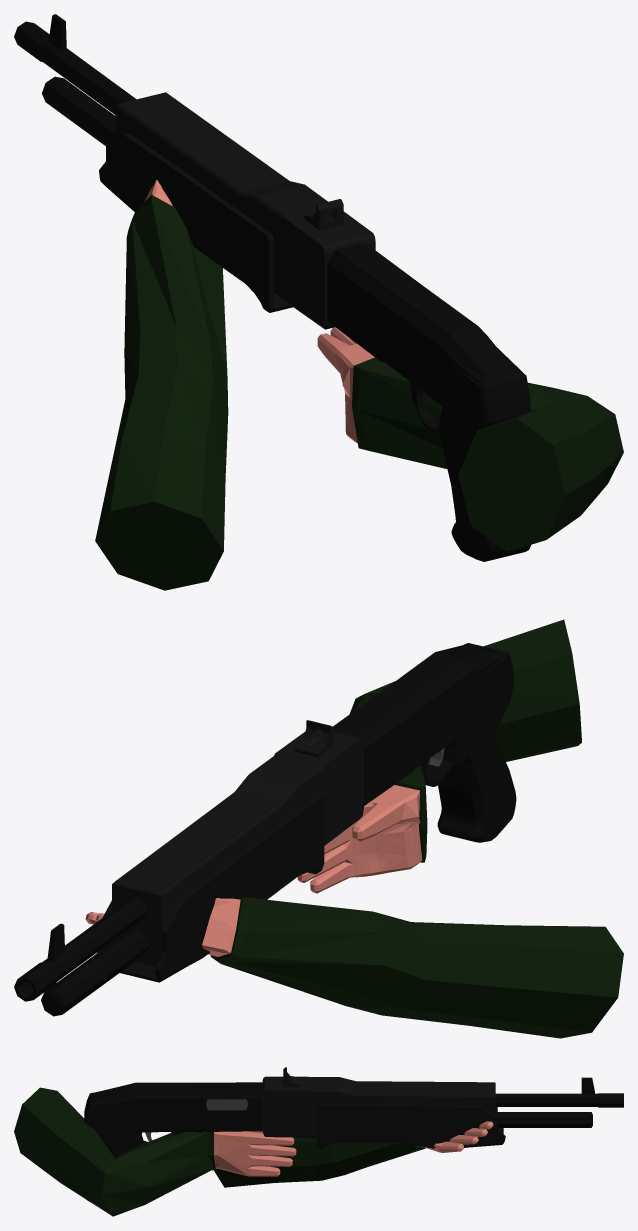
The picture shows the model from 3 angles, top to bottom: view 1: azimuth 30°, elevation 25°; view 2: azimuth 150°, elevation 25°; view 3: azimuth 270°, elevation 25°; orthographic projection. The views are drawn at different scales.
Visible parts, largest first — view 1: arms, gun; view 2: gun, arms; view 3: gun, arms.
Part boxes in pixels (x1,y1,x2,y2): arms: (95,179,623,590); gun: (14,14,531,561); gun: (14,643,516,1016); arms: (85,619,623,1038); gun: (84,1067,623,1201); arms: (14,1087,493,1216).
Bounding box in the file's own units: 1.18 × 0.8649 × 2.8.
